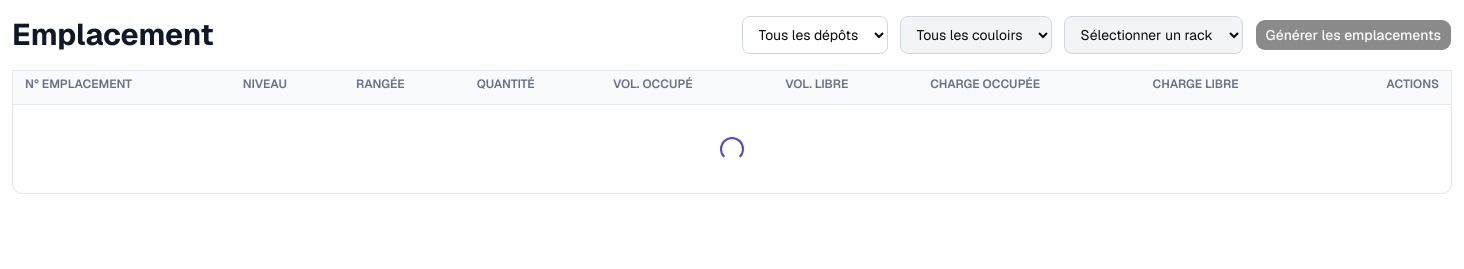
Test case: shows error message on fetch failure
Select "101 - Dépôt A" in the 1st dropdown at [815, 35], box left=742, top=16, right=888, bottom=54
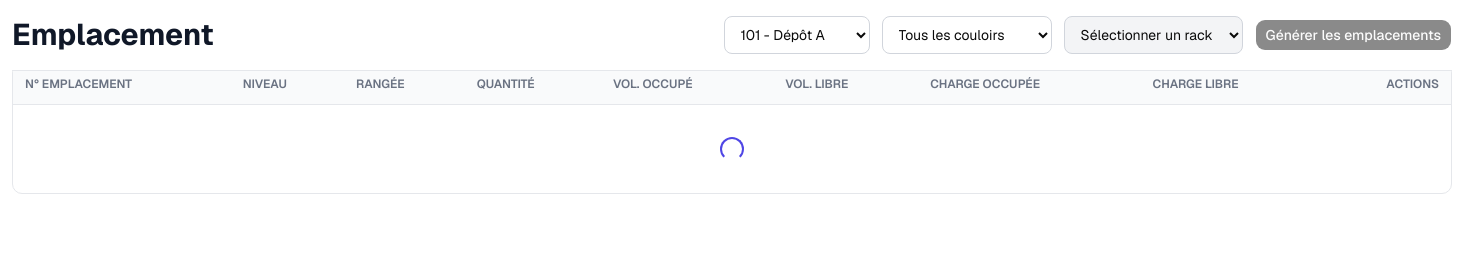
Select "C01 - Couloir Alpha" in the 2nd dropdown at [967, 35], box left=882, top=16, right=1052, bottom=54
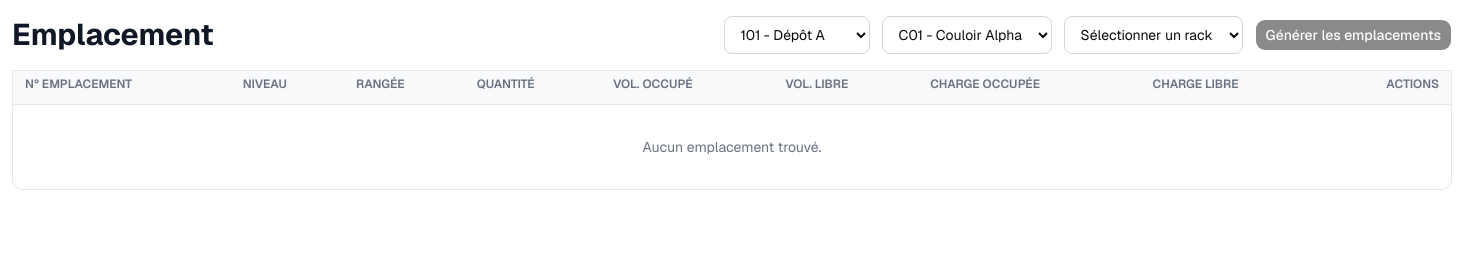
Select "R01" in the 3rd dropdown at [1153, 35], box left=1064, top=16, right=1243, bottom=54
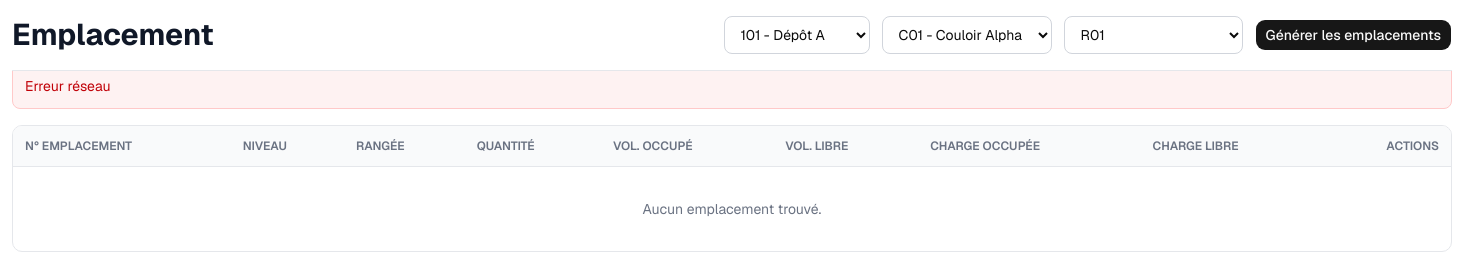
Check: the text "Erreur réseau" is shown, box left=12, top=63, right=1452, bottom=109
